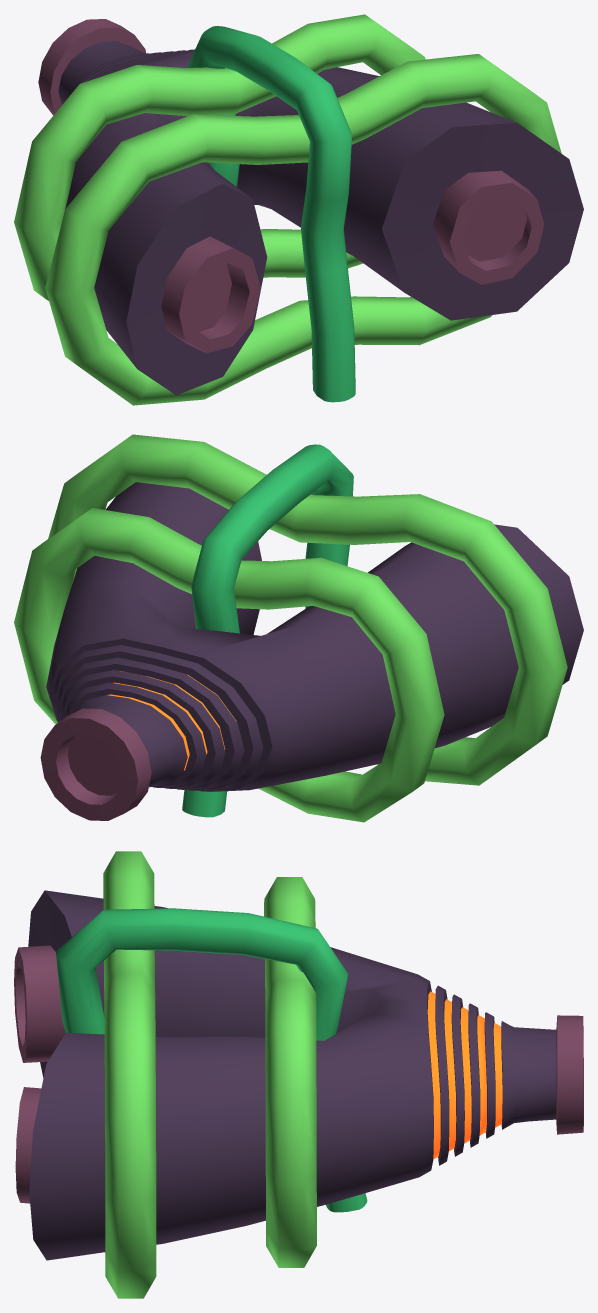
The model's file is AND.fbx.
3 views of the same model, one above another, from view 1: azimuth 30°, elevation 25°; view 2: azimuth 150°, elevation 25°; view 3: azimuth 270°, elevation 25° (orthographic). The views are drawn at different scales.
Visible parts, largest first — view 1: BezierCircle; view 2: BezierCircle; view 3: BezierCircle.
Part boxes in pixels (bbox=[...]): BezierCircle: bbox=[14, 14, 583, 405]; BezierCircle: bbox=[14, 434, 583, 822]; BezierCircle: bbox=[14, 851, 583, 1298].
Size of the model in its own units: 108 by 60.62 by 100.
